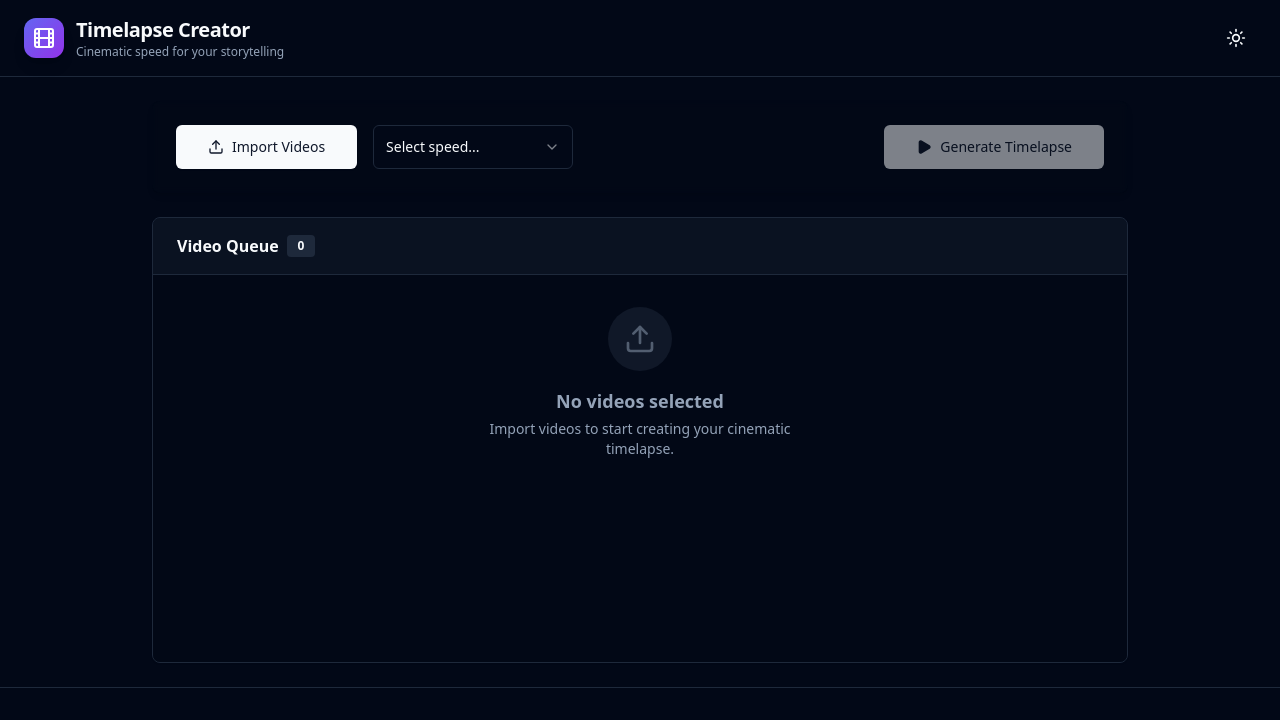
Test: App Component › updates UI after selecting files
Click the button "Import Videos" at point(267, 147), box x1=176 y1=125 x2=357 y2=169
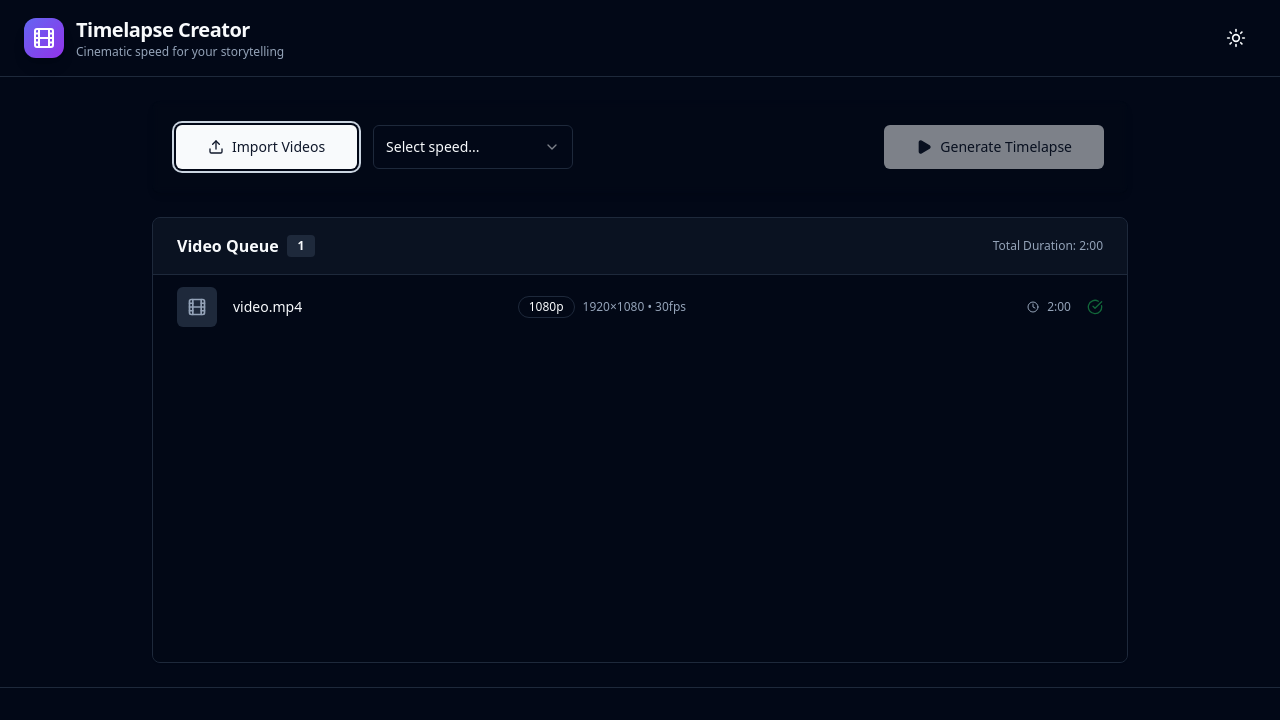
Expected: the heading "Video Queue 1" is shown, x1=177 y1=234 x2=316 y2=258
Now the text "1" is shown, box x1=287 y1=235 x2=316 y2=257
Now the text "video.mp4" is shown, box x1=233 y1=297 x2=302 y2=316
